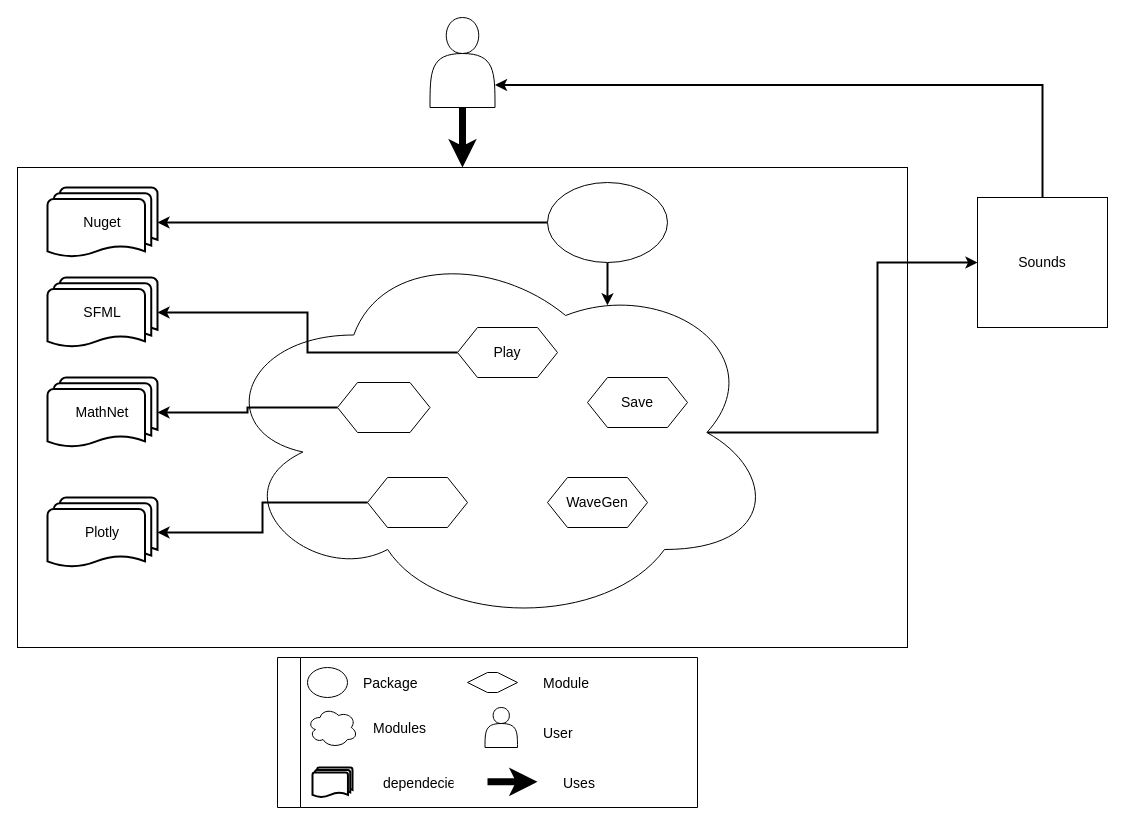
Some shapes in this 1125 by 825 pixel diagram are drawn without their labels. Each missing label, with the box of its shape:
AudioSynth: (546, 182, 668, 262)
Chart: (366, 476, 468, 528)
Filters: (336, 382, 430, 432)
Legend: (276, 656, 698, 808)
